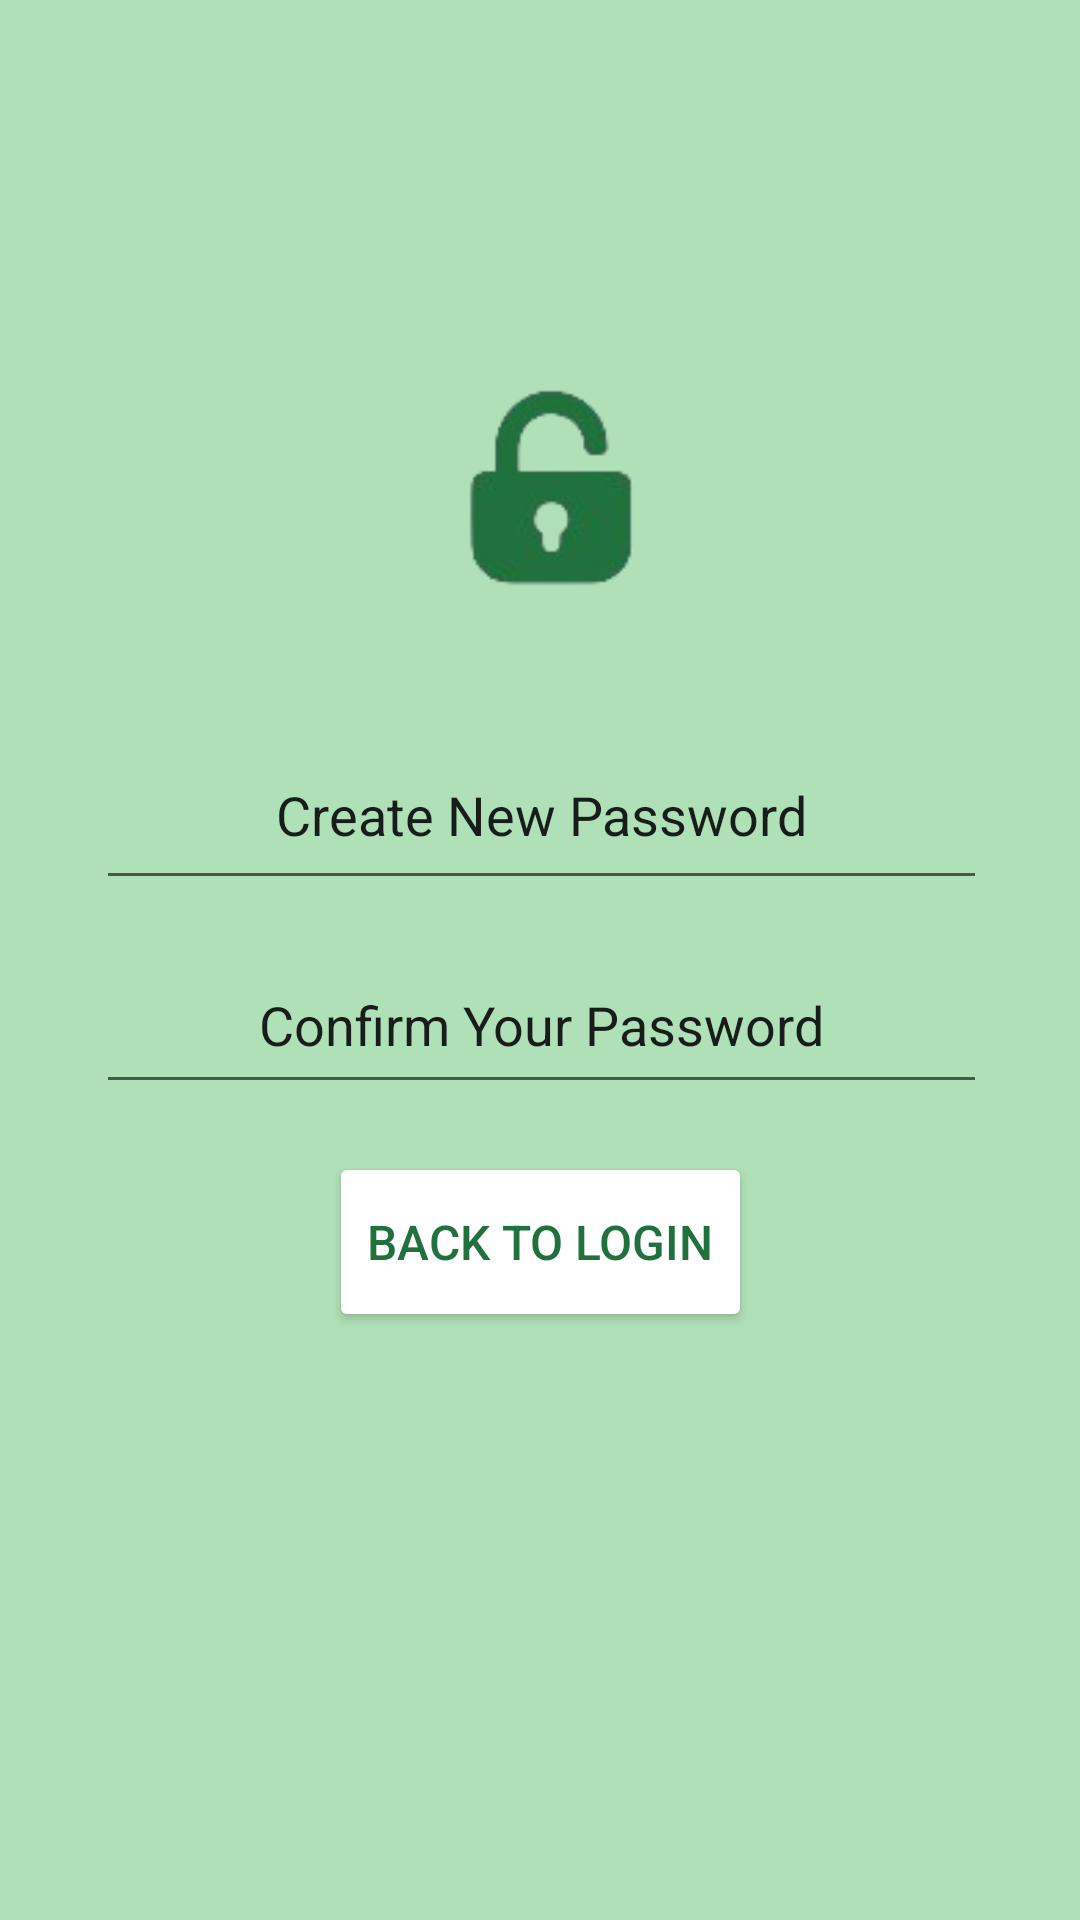

Named icons in this screenshot (1080 × 1920) and their bounding boxes, [x1,y1,x2,y2]:
lock: [470,391,632,585]
